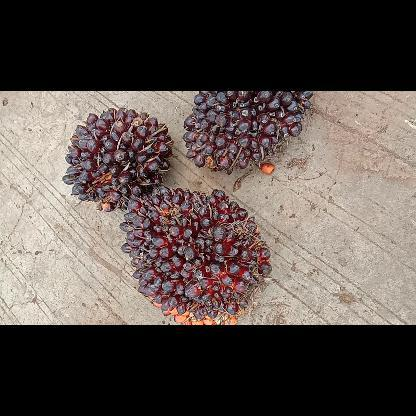TBS mentah: (116, 184, 274, 324), (58, 106, 176, 210), (180, 91, 316, 177)
